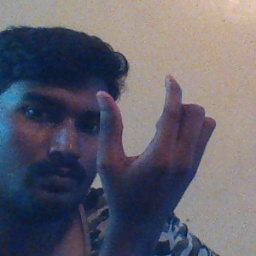U: (90, 69, 212, 210)
